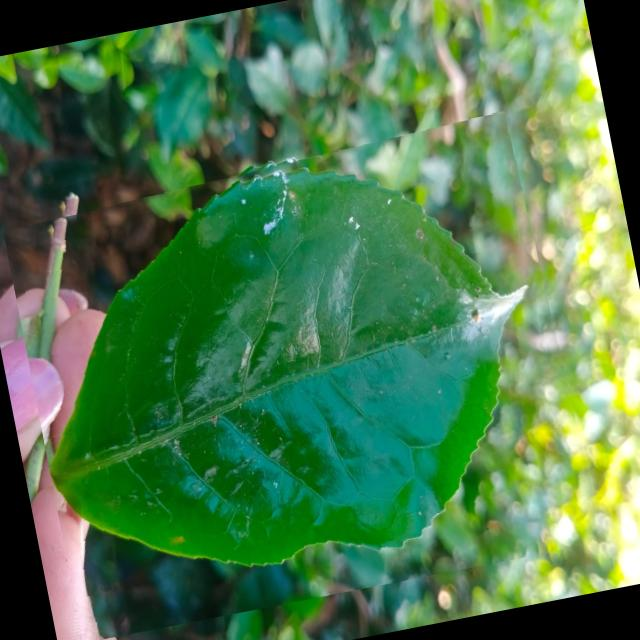Category D 7+ days, Not for Tea: (0, 107, 603, 640)
